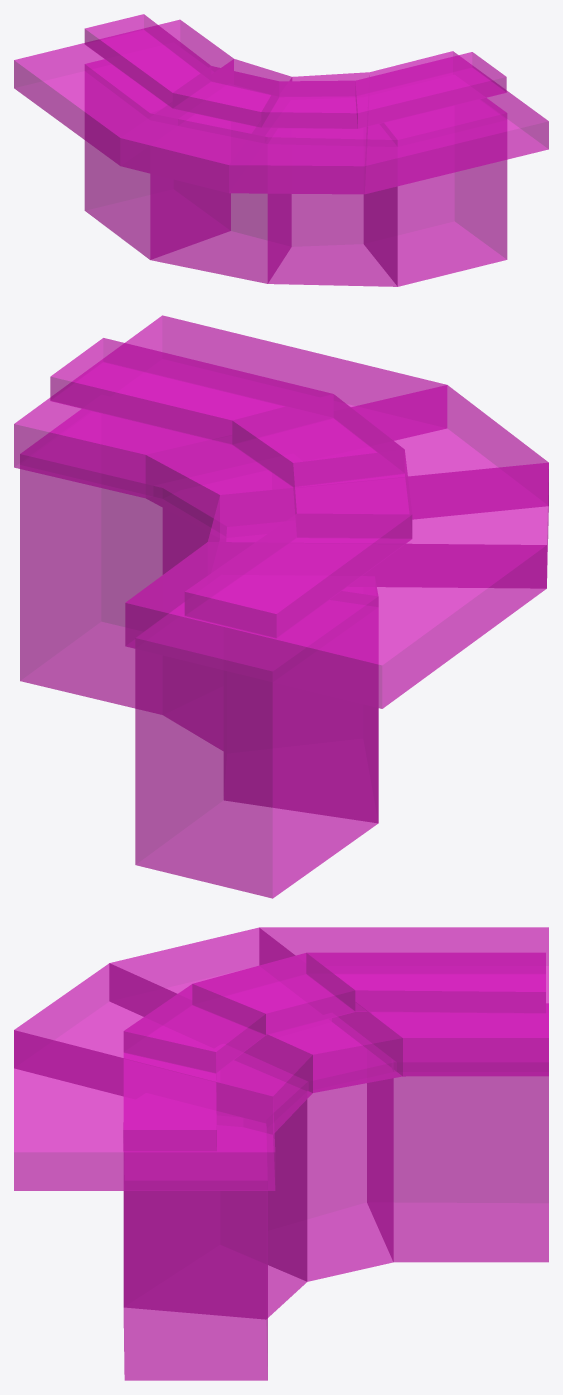
File: SM_Prop_Sushi_Bar_Corner_01_Collision.fbx
3 renders of one model, top to bottom at view 1: azimuth 30°, elevation 25°; view 2: azimuth 150°, elevation 25°; view 3: azimuth 270°, elevation 25°, orthographic. The views are drawn at different scales.
Parts seen in each view (by area): view 1: SM_Prop_Sushi_Bar_Corner_01_Collision; view 2: SM_Prop_Sushi_Bar_Corner_01_Collision; view 3: SM_Prop_Sushi_Bar_Corner_01_Collision.
Boxes of the visible parts, left/top/right/bottom form: SM_Prop_Sushi_Bar_Corner_01_Collision: left=14, top=14, right=548, bottom=286; SM_Prop_Sushi_Bar_Corner_01_Collision: left=14, top=315, right=548, bottom=898; SM_Prop_Sushi_Bar_Corner_01_Collision: left=14, top=927, right=548, bottom=1380.
Bounding box in the file's own units: 238 × 123 × 240.
